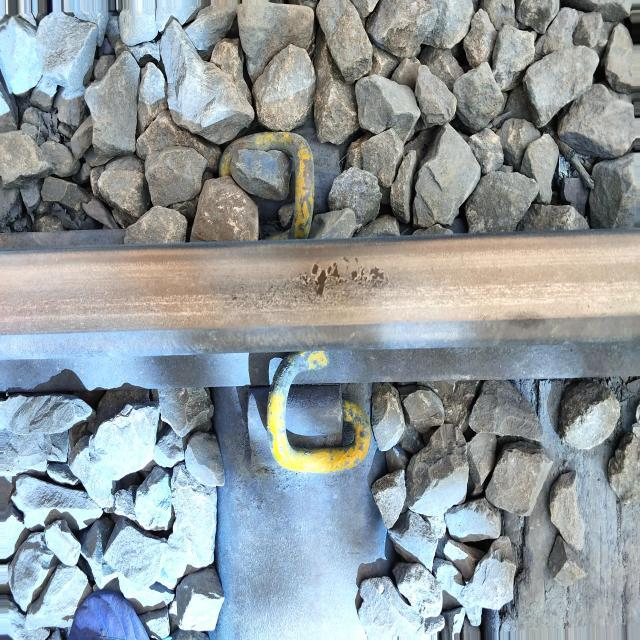Good Fasteners: (214, 345, 385, 492), (219, 132, 339, 239)
